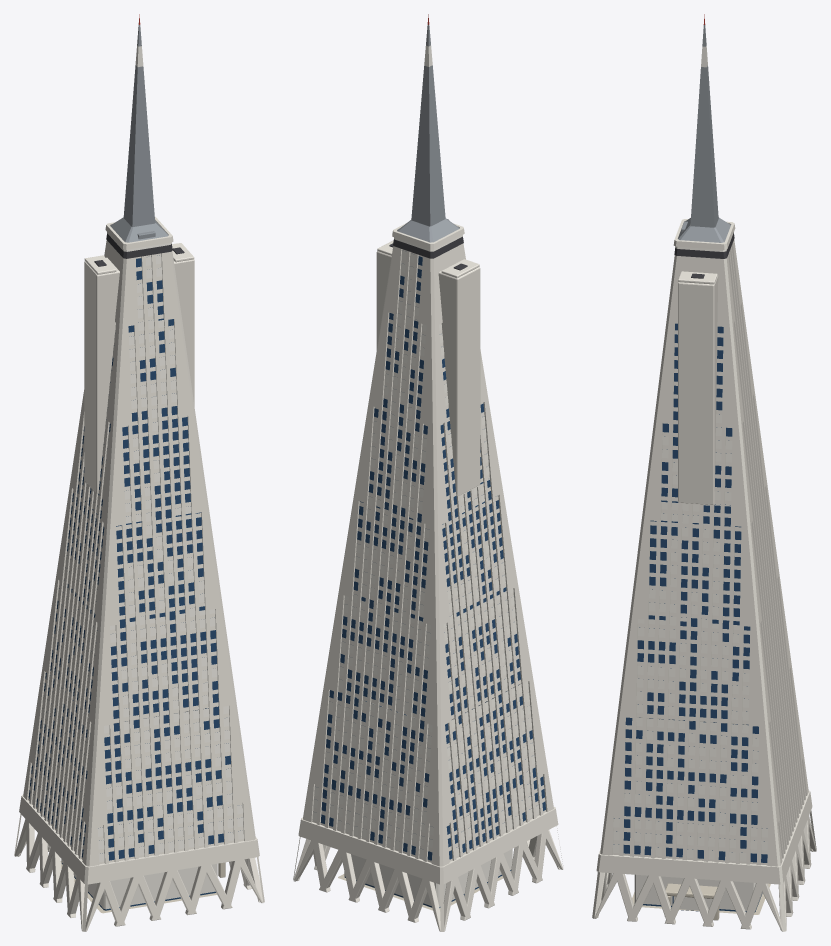
File: transamerica-pyramid.glb
The picture shows the model from 3 angles, left to right: view 1: azimuth 30°, elevation 25°; view 2: azimuth 150°, elevation 25°; view 3: azimuth 270°, elevation 25°; orthographic projection.
Parts seen in each view (by area): view 1: facade_south, facade_west, wing_west, base_band, spire, corner_2, lobby_light, wing_east, corner_3, crown_roof, parapet; view 2: facade_north, facade_west, wing_west, base_band, spire, corner_1, lobby_light, crown_roof, wing_east, corner_0, parapet; view 3: facade_east, facade_north, wing_east, base_band, spire, corner_0, corner_3, lobby_light, crown_roof, parapet.
Boxes of the visible parts, x1,y1,x2,y2 form: facade_south: (89,252,254,866); facade_west: (23,240,123,865); wing_west: (84,257,119,493); base_band: (19,795,259,884); spire: (123,25,155,226); corner_2: (82,258,126,931); lobby_light: (61,859,217,909); wing_east: (174,259,194,406); corner_3: (171,251,264,902); crown_roof: (110,217,168,242); parapet: (105,216,173,249); facade_north: (303,246,439,866); facade_west: (434,243,553,866); wing_west: (438,266,480,496); base_band: (298,807,558,884); spire: (411,25,445,226); corner_1: (430,258,444,931); lobby_light: (344,849,512,906); crown_roof: (397,218,459,242); wing_east: (376,251,391,349); corner_0: (293,246,393,880); parapet: (392,223,464,249); facade_east: (602,256,777,866); facade_north: (726,239,808,865); wing_east: (678,275,718,504); base_band: (596,790,812,884); spire: (690,25,718,227); corner_0: (723,258,786,931); corner_3: (592,255,676,918); lobby_light: (634,874,762,910); crown_roof: (678,217,730,242); parapet: (673,219,735,249).
Bounding box in the file's own units: 60.84 × 260 × 60.84.
